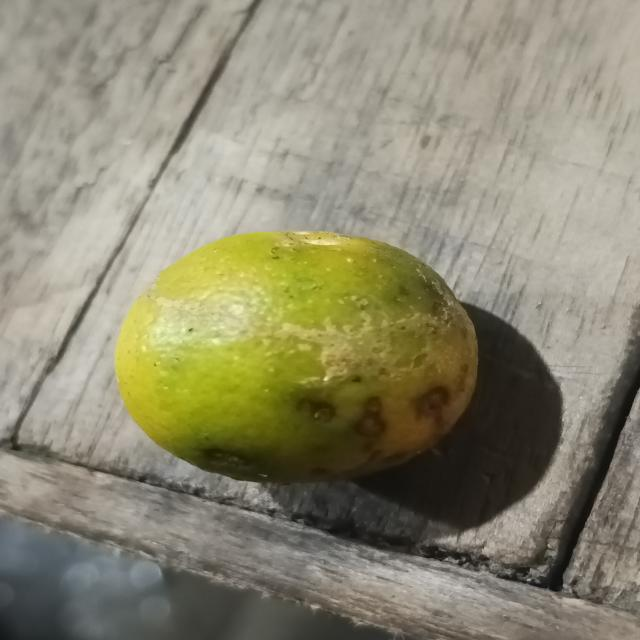thrips: (109, 223, 487, 487)
